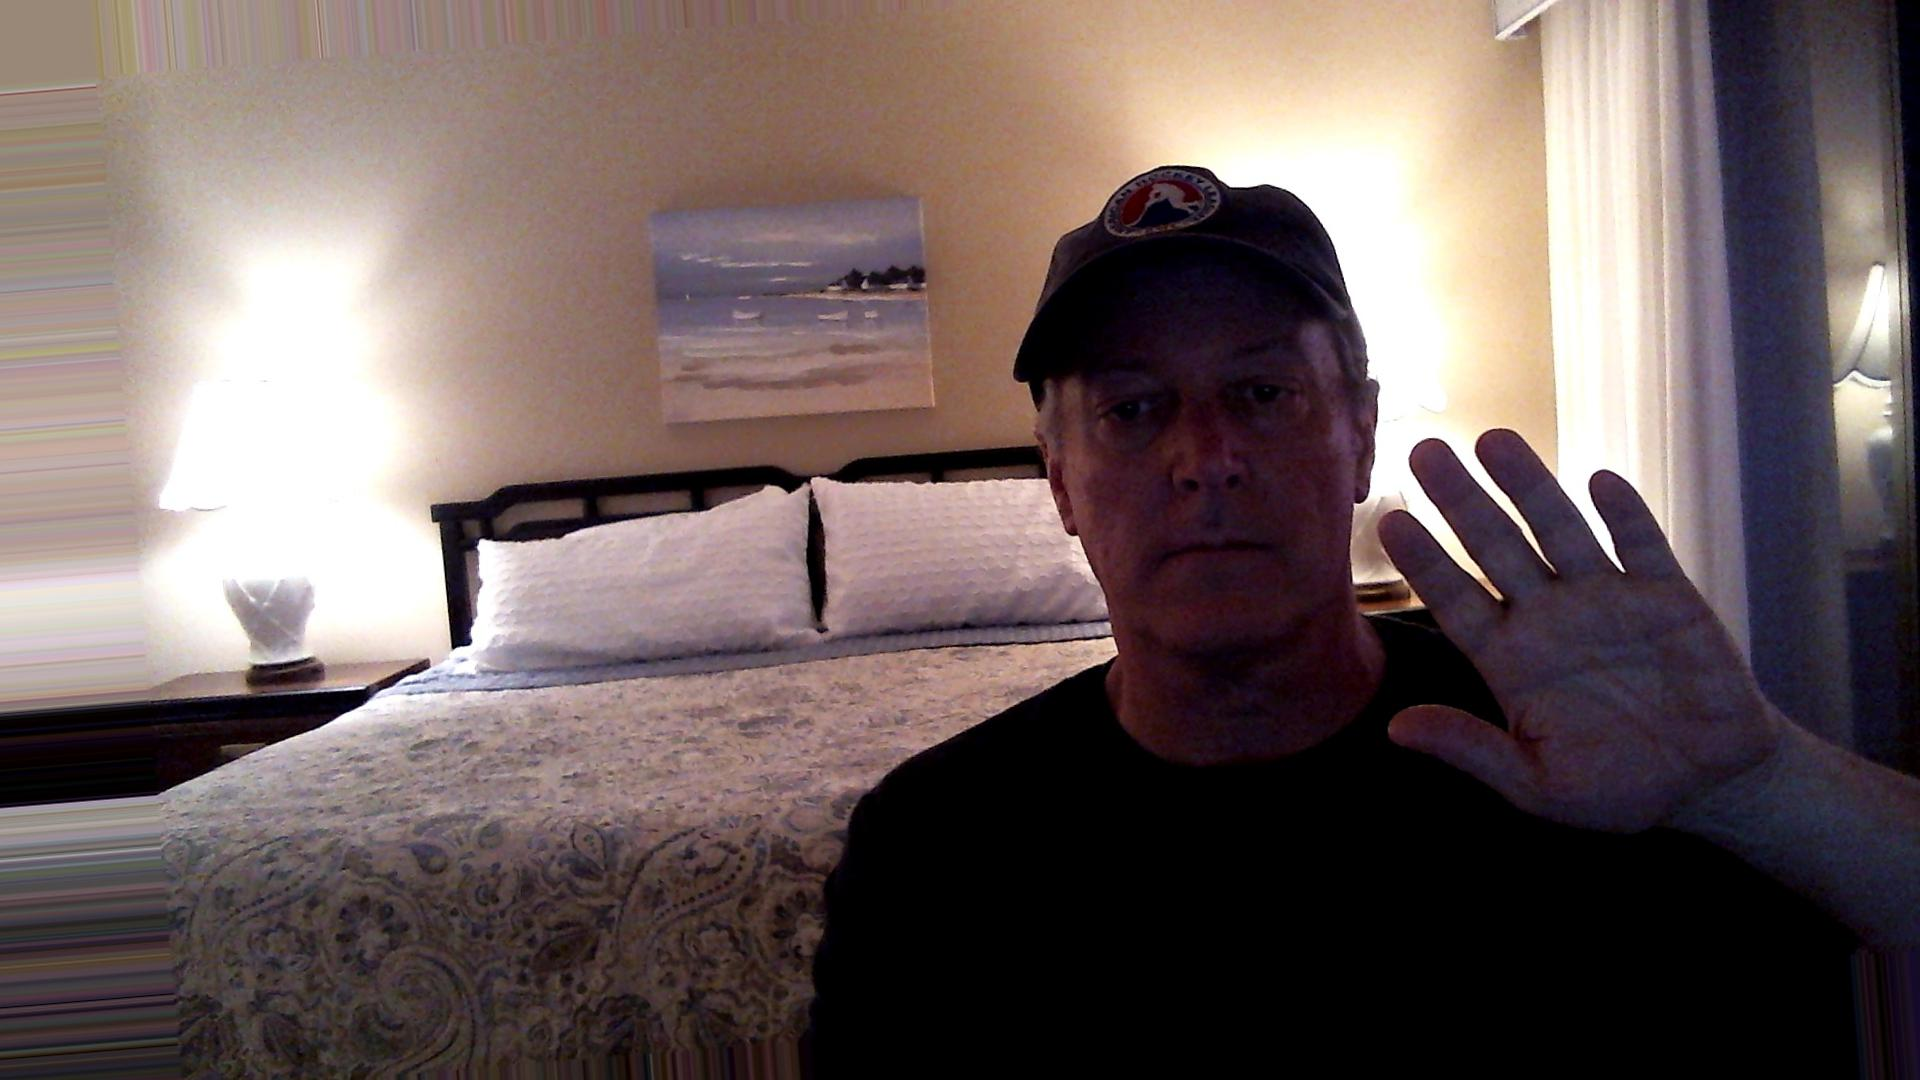Hello: (1365, 422, 1825, 866)
